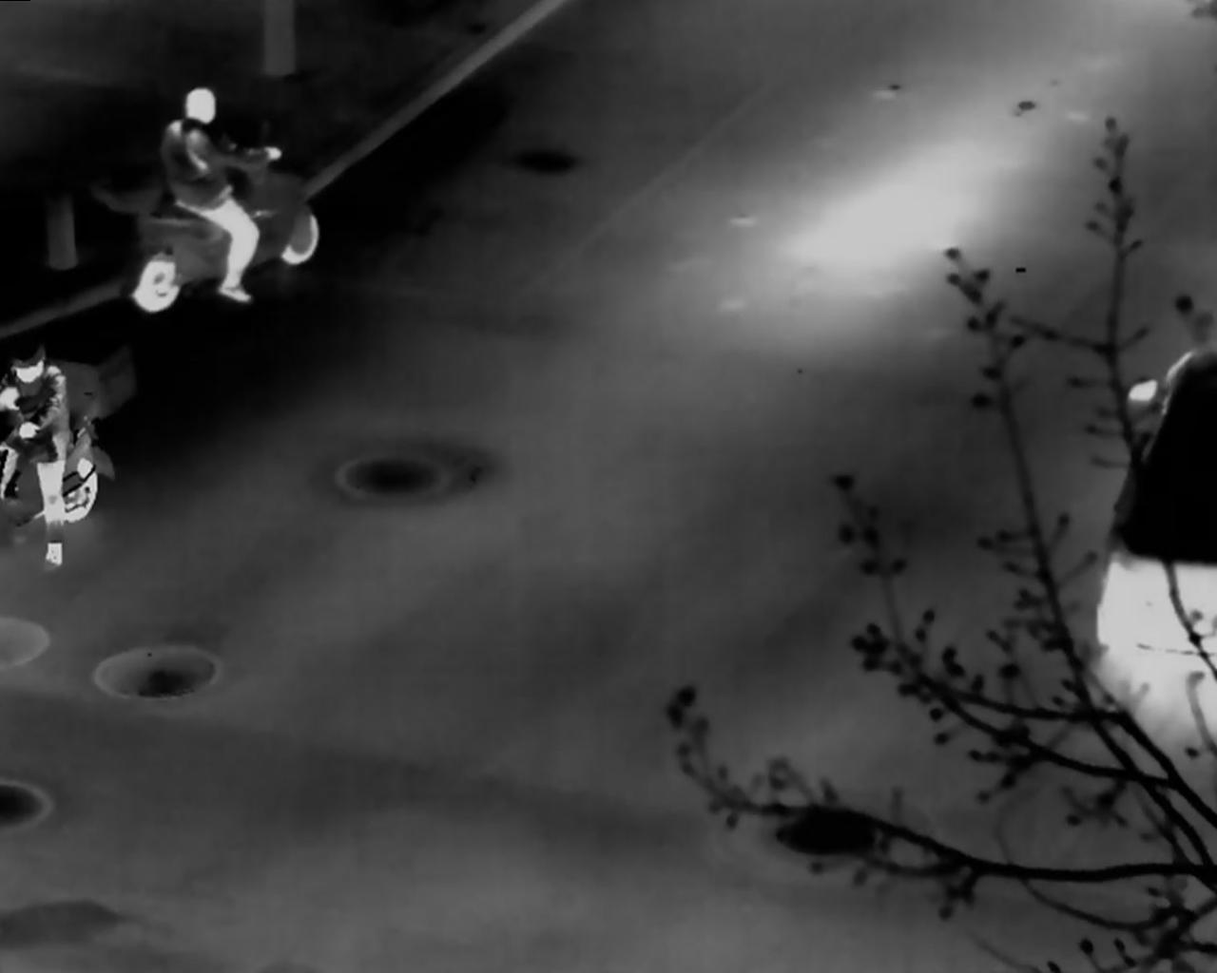person: (159, 85, 282, 302)
